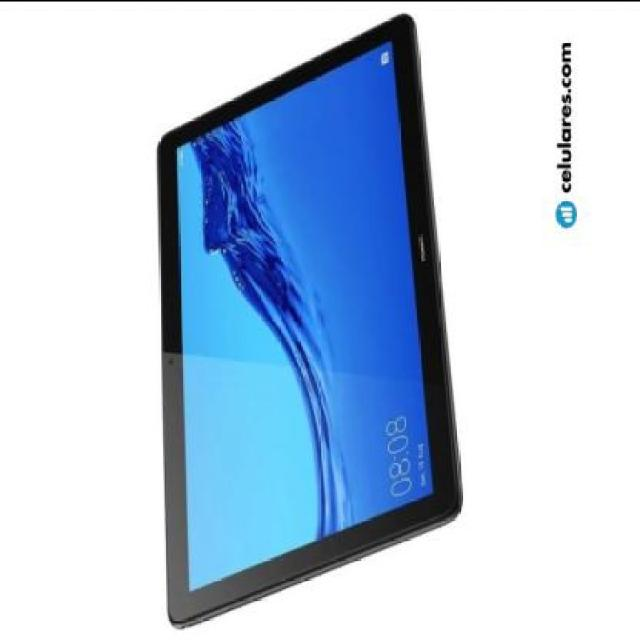tablet: (150, 14, 490, 627)
